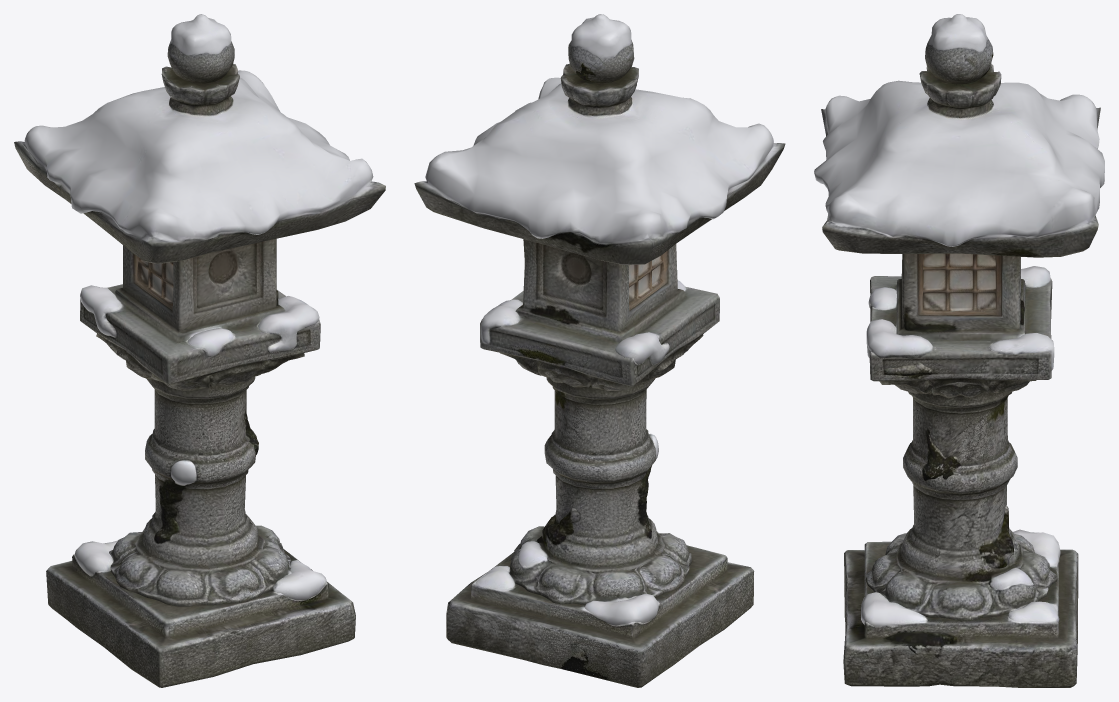
Rendered from stone-lantern.glb.
3 views of the same model, side by side, from view 1: azimuth 30°, elevation 25°; view 2: azimuth 150°, elevation 25°; view 3: azimuth 270°, elevation 25° (orthographic). The views are drawn at different scales.
Parts seen in each view (by area): view 1: tripo_node_a6f92f5d-6cc3-4546-a21d-6b9e419fad26; view 2: tripo_node_a6f92f5d-6cc3-4546-a21d-6b9e419fad26; view 3: tripo_node_a6f92f5d-6cc3-4546-a21d-6b9e419fad26.
Part boxes in pixels (box(x1,y1,x2,y2)): tripo_node_a6f92f5d-6cc3-4546-a21d-6b9e419fad26: box(14, 14, 385, 687); tripo_node_a6f92f5d-6cc3-4546-a21d-6b9e419fad26: box(414, 14, 785, 687); tripo_node_a6f92f5d-6cc3-4546-a21d-6b9e419fad26: box(814, 14, 1104, 687).
Size of the model in its own units: 0.6777 by 1.6 by 0.6745.
1 material, 1 textured.
